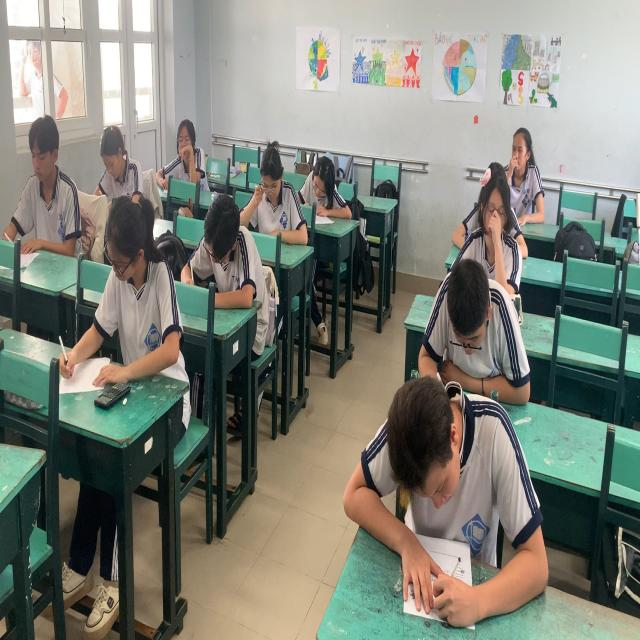not_cheating: (378, 367, 522, 577), (86, 188, 188, 409), (430, 252, 530, 365), (17, 110, 81, 254), (197, 199, 260, 334), (466, 182, 536, 260), (247, 135, 298, 239), (492, 122, 551, 194), (94, 116, 146, 196), (170, 116, 214, 200), (309, 142, 345, 234)
